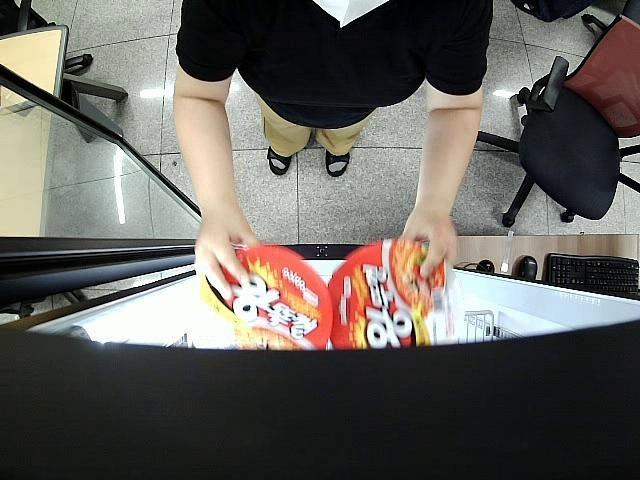10_wangTtukkeong: (189, 247, 332, 350), (331, 240, 466, 349)
